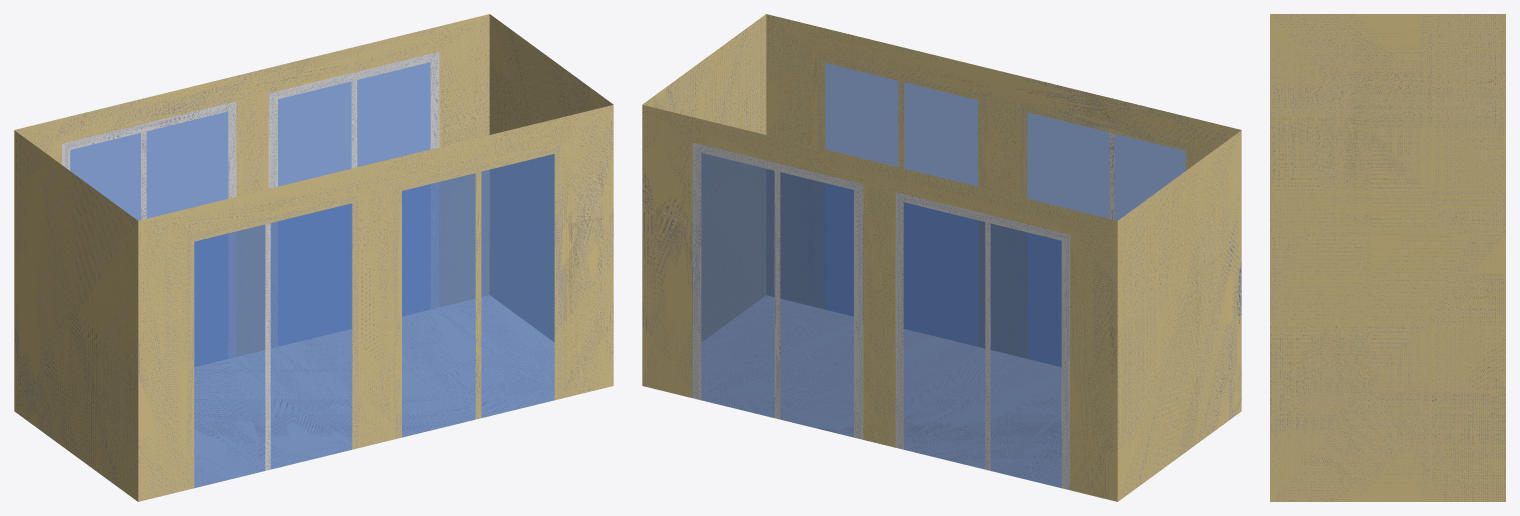
Rendered from COM001.obj.
The picture shows the model from 3 angles, left to right: view 1: azimuth 30°, elevation 25°; view 2: azimuth 150°, elevation 25°; view 3: azimuth 270°, elevation 25°; orthographic projection. The views are drawn at different scales.
Parts seen in each view (by area): view 1: Mesh1 COM001 Model; view 2: Mesh1 COM001 Model; view 3: Mesh1 COM001 Model.
Boxes of the visible parts, <box> form: Mesh1 COM001 Model: <box>14,14,613,501</box>; Mesh1 COM001 Model: <box>642,14,1241,501</box>; Mesh1 COM001 Model: <box>1270,14,1505,501</box>.
Size of the model in its own units: 5.27 by 2.98 by 2.38.
6 materials, 2 textured.
